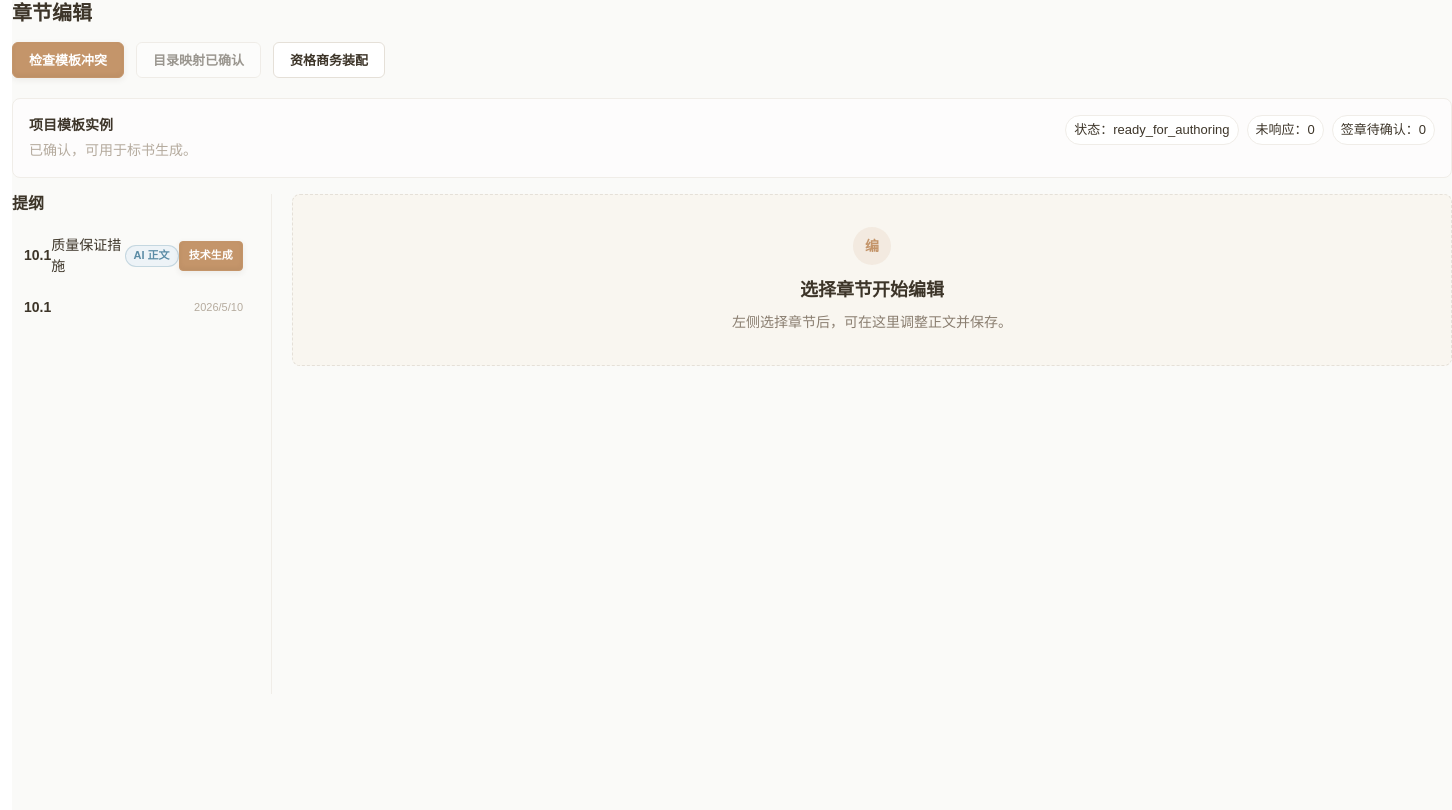
EditorContent chart workflow › shows chart task cards with purpose, source, approval and insert actions
What coordinates should you click on to do the following:
click the text "10.1" next to "2026/5/10"
I would click on:
 (38, 307)
Its box is 24,297 -> 51,318.
(page scrolled)
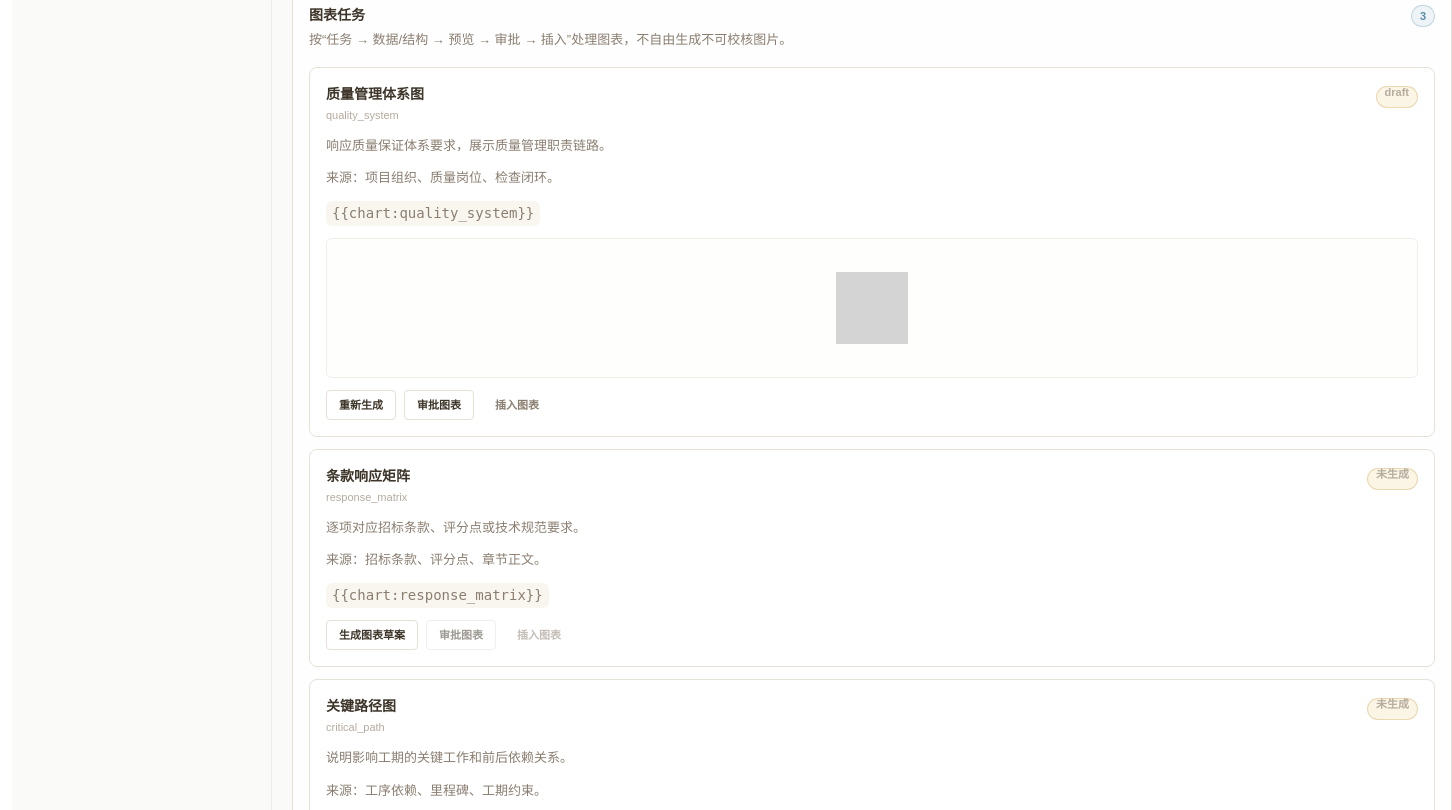
expect the text "质量管理体系图" is shown: met, box 326,86 -> 424,102
expect the text "响应质量保证体系要求，展示质量管理职责链路。" is shown: met, box 326,138 -> 612,153
expect the text "{{chart:quality_system}}" is shown: met, box 326,201 -> 540,226
